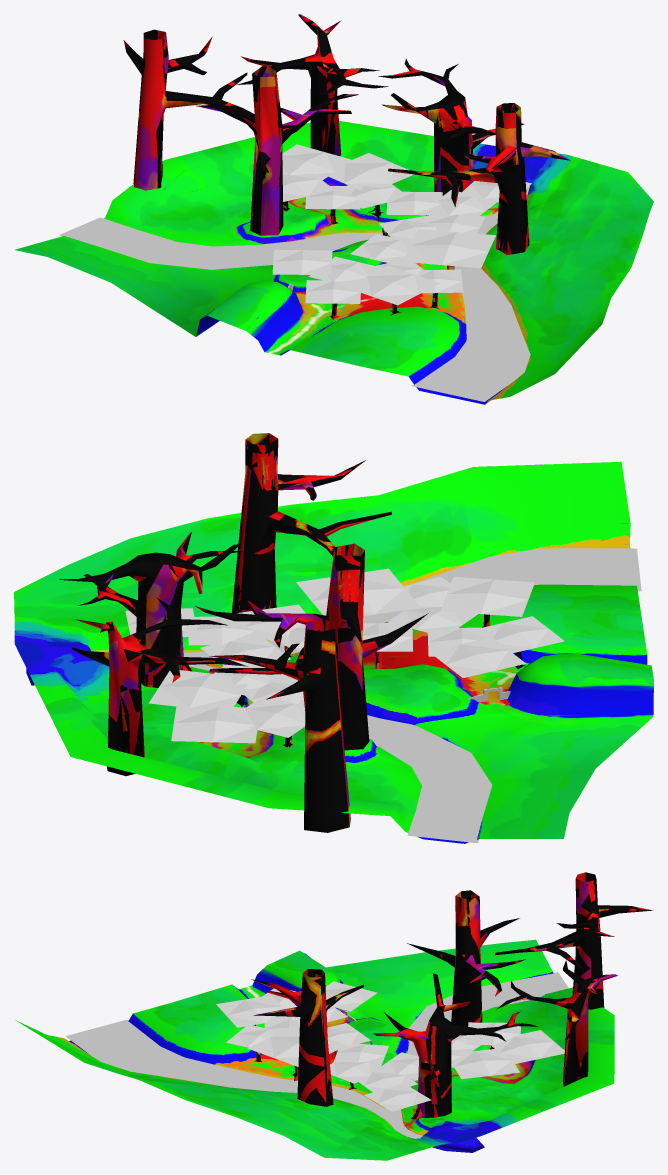
The model's file is ForestEntrance.dae.
3 views of the same model, one above another, from view 1: azimuth 30°, elevation 25°; view 2: azimuth 150°, elevation 25°; view 3: azimuth 270°, elevation 25° (orthographic). The views are drawn at different scales.
Parts seen in each view (by area): view 1: Level, Trees, Leaves, Water; view 2: Level, Trees, Leaves, Water; view 3: Level, Trees, Leaves, Water.
Boxes of the visible parts, <box> form: Level: <box>14,121,653,404</box>; Trees: <box>123,14,570,319</box>; Leaves: <box>272,144,531,305</box>; Water: <box>59,186,530,401</box>; Level: <box>14,461,653,843</box>; Trees: <box>59,433,525,832</box>; Leaves: <box>125,568,564,743</box>; Water: <box>183,548,641,843</box>; Level: <box>15,939,614,1160</box>; Trees: <box>251,872,653,1119</box>; Leaves: <box>216,981,564,1111</box>; Water: <box>65,972,568,1138</box>.
Size of the model in its own units: 320 by 377 by 100.
